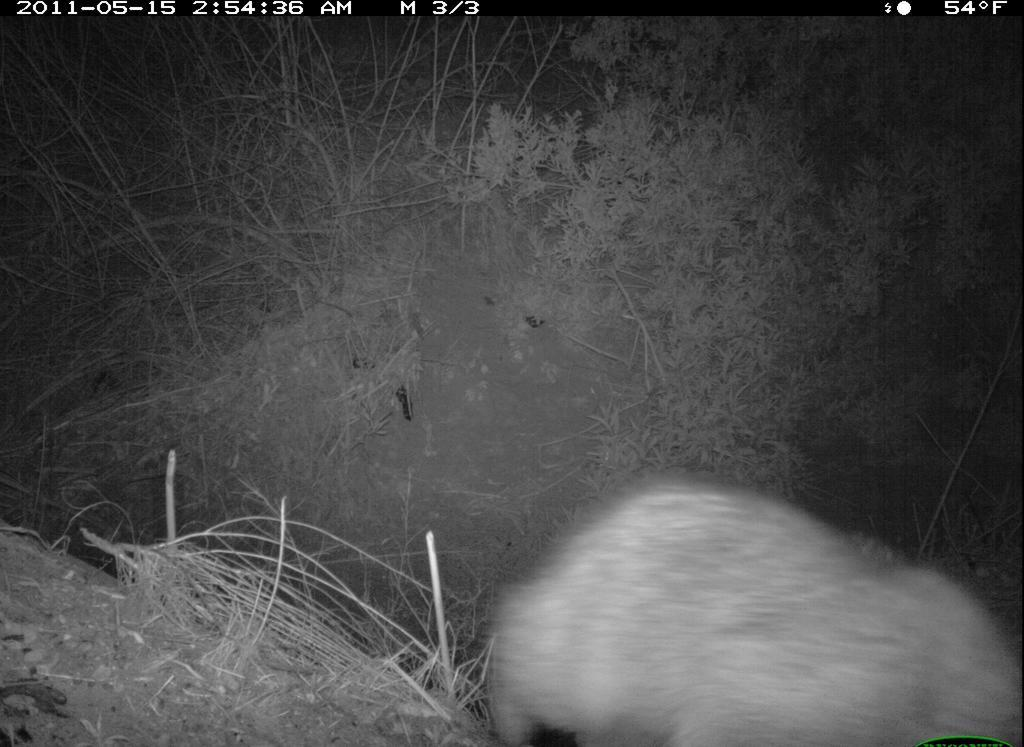raccoon: (472, 447, 1016, 740)
